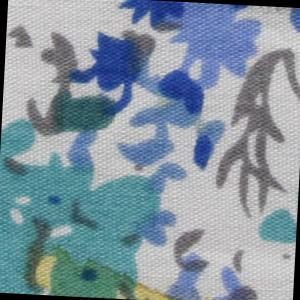Oil Stain: (24, 242, 206, 300)
